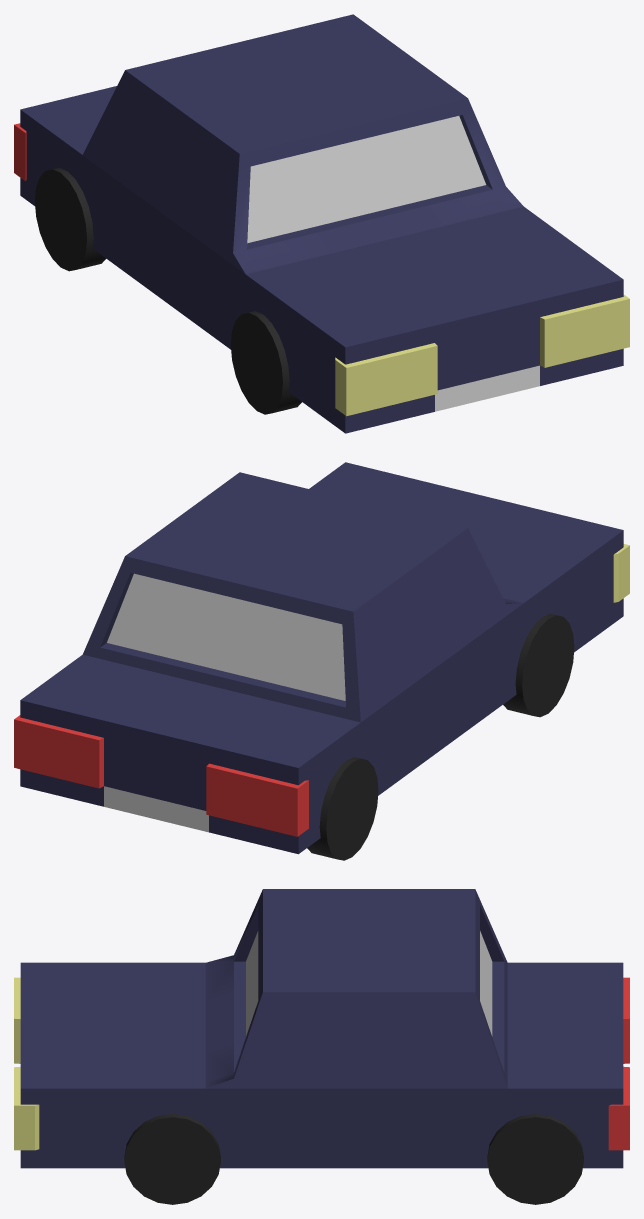
Rendered from abCarWithTyres.fbx.
3 renders of one model, top to bottom at view 1: azimuth 30°, elevation 25°; view 2: azimuth 150°, elevation 25°; view 3: azimuth 270°, elevation 25°, orthographic. The views are drawn at different scales.
Visible parts, largest first — view 1: CarBody, FRWheel, BRWheel; view 2: CarBody, FRWheel, BRWheel; view 3: CarBody, BLWheel, FLWheel.
Boxes of the visible parts, x1,y1,x2,y2 form: CarBody: (14,14,629,433); FRWheel: (230,311,301,414); BRWheel: (35,167,106,271); CarBody: (14,462,629,854); FRWheel: (503,614,574,717); BRWheel: (307,757,378,860); CarBody: (14,889,629,1168); BLWheel: (487,1114,583,1204); FLWheel: (124,1114,220,1204).
Bounding box in the file's own units: 88.67 × 62.01 × 175.
